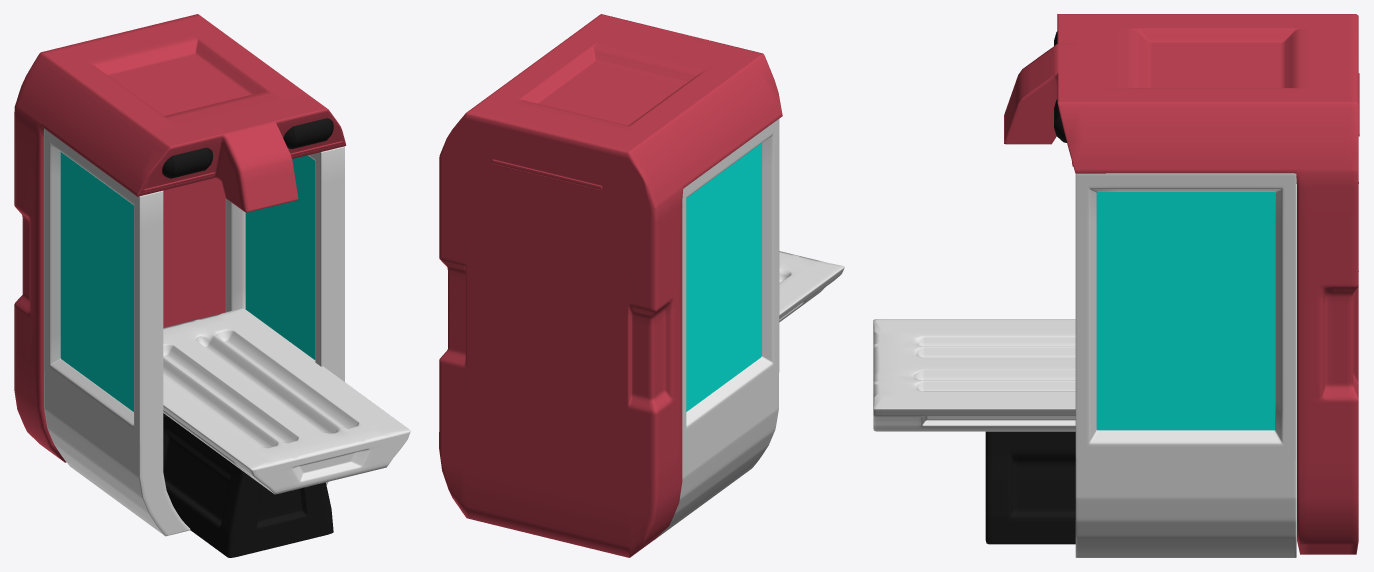
Rendered from Replicating Activate anim.fbx.
The picture shows the model from 3 angles, left to right: view 1: azimuth 30°, elevation 25°; view 2: azimuth 150°, elevation 25°; view 3: azimuth 270°, elevation 25°; orthographic projection. The views are drawn at different scales.
Visible parts, largest first — view 1: Object005, Box011, Tray Anim, Holo emmiter001; view 2: Object005, Holo emmiter001, Box011, Tray Anim; view 3: Object005, Box011, Holo emmiter001, Tray Anim.
Boxes of the visible parts, bbox=[...] form: Object005: bbox=[14, 14, 345, 557]; Box011: bbox=[44, 128, 344, 536]; Tray Anim: bbox=[163, 308, 410, 494]; Holo emmiter001: bbox=[60, 152, 315, 411]; Object005: bbox=[439, 14, 782, 557]; Holo emmiter001: bbox=[686, 143, 761, 411]; Box011: bbox=[655, 119, 779, 539]; Tray Anim: bbox=[779, 251, 844, 322]; Object005: bbox=[985, 14, 1359, 554]; Box011: bbox=[1075, 173, 1296, 557]; Holo emmiter001: bbox=[1096, 192, 1275, 430]; Tray Anim: bbox=[873, 319, 1075, 431].
Bounding box in the file's own units: 39.26 × 70.58 × 68.16.
